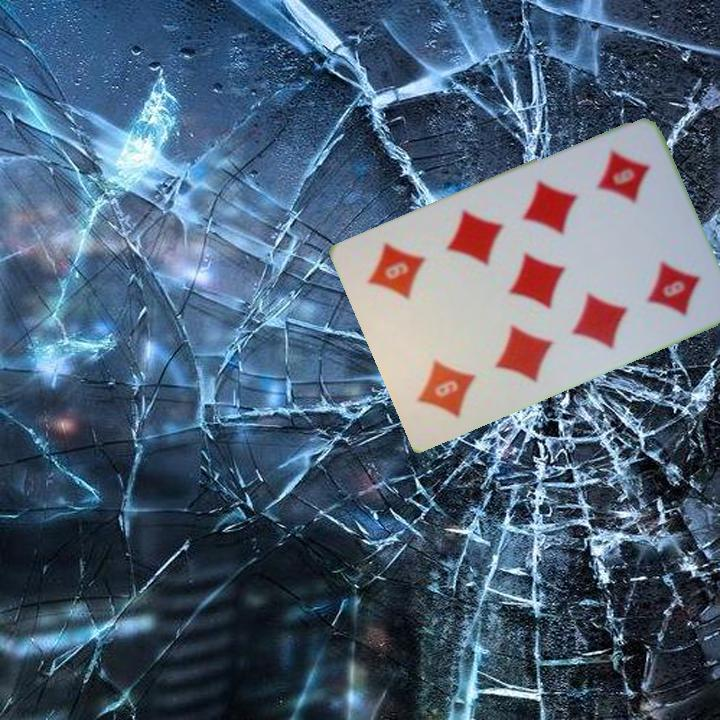d_9.png: (565, 130, 681, 254), (385, 309, 501, 433)
